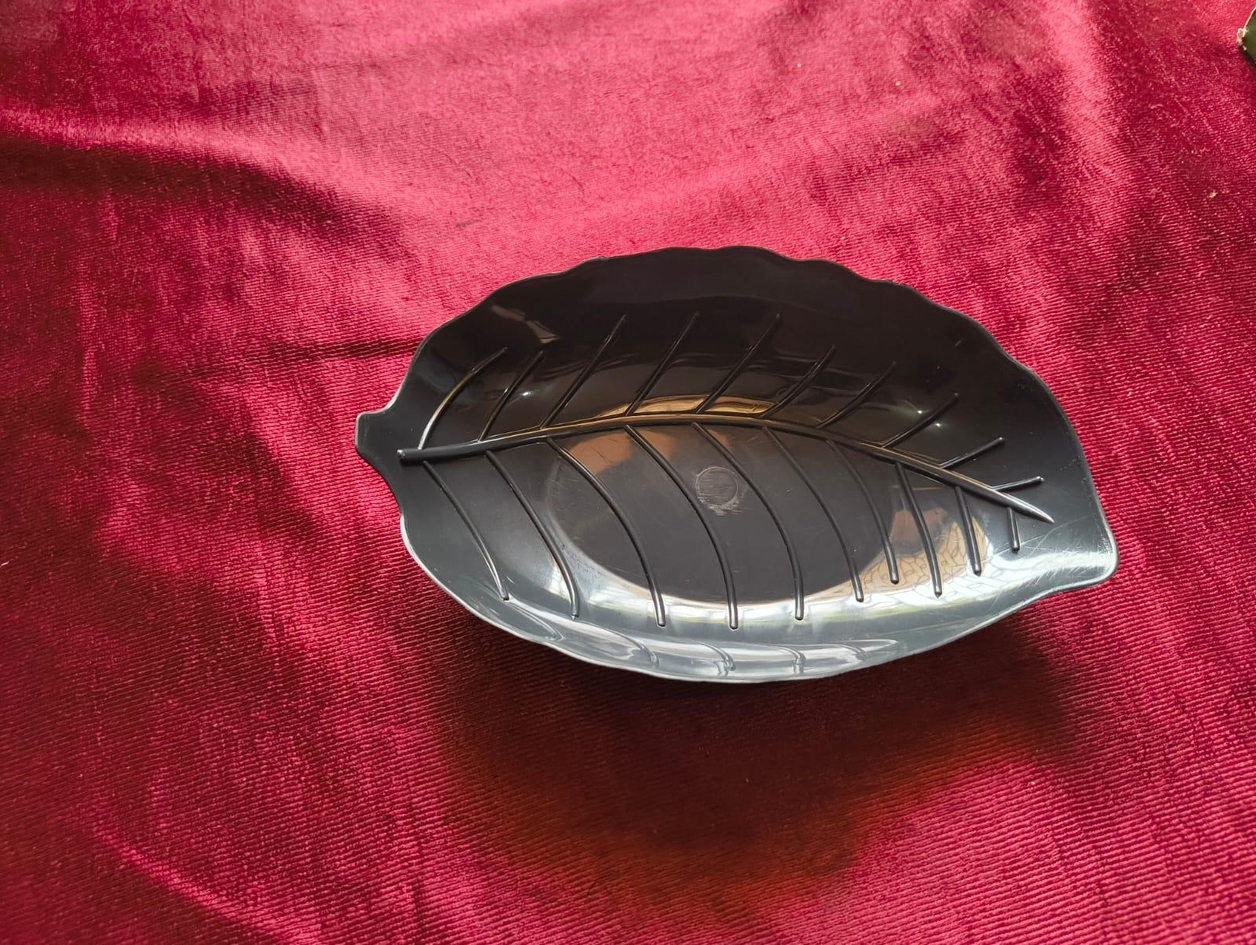plate: (339, 239, 1109, 693)
